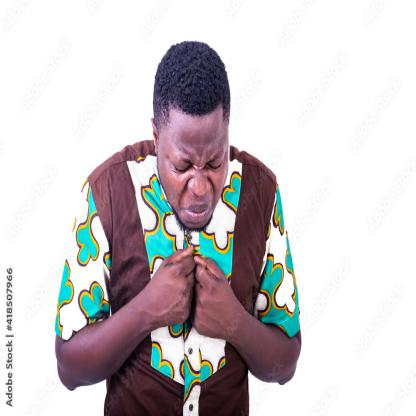pain: (165, 140, 226, 180)
